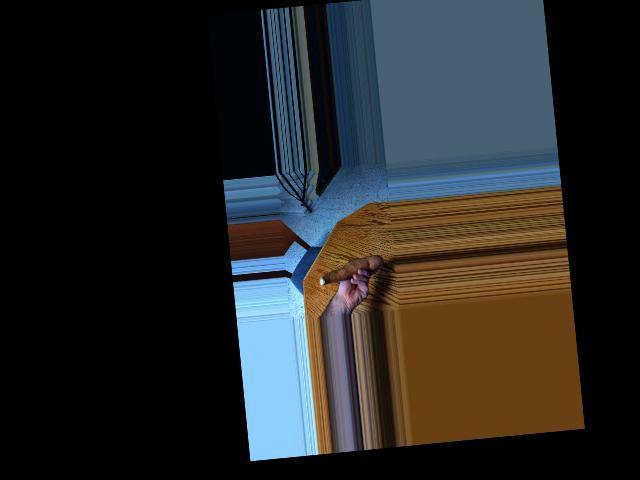sweet_potato: (315, 251, 382, 287)
